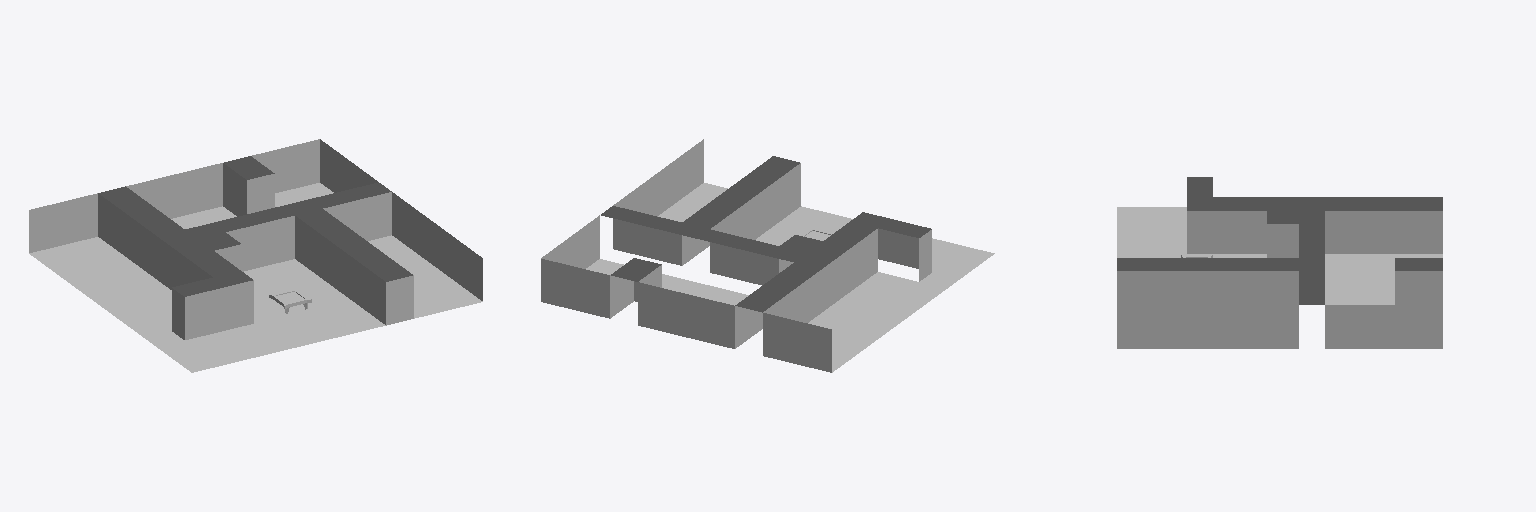
File: GALHQ5-1.obj
The picture shows the model from 3 angles: view 1: azimuth 30°, elevation 25°; view 2: azimuth 150°, elevation 25°; view 3: azimuth 270°, elevation 25°; orthographic projection.
Visible parts, largest first — view 1: m_dun2602_01_00c; view 2: m_dun2602_01_00c; view 3: m_dun2602_01_00c.
Part boxes in pixels (x1,y1,x2,y2): m_dun2602_01_00c: (29,139,482,372); m_dun2602_01_00c: (541,139,994,372); m_dun2602_01_00c: (1117,177,1442,348).
Bounding box in the file's own units: 336 × 48 × 326.